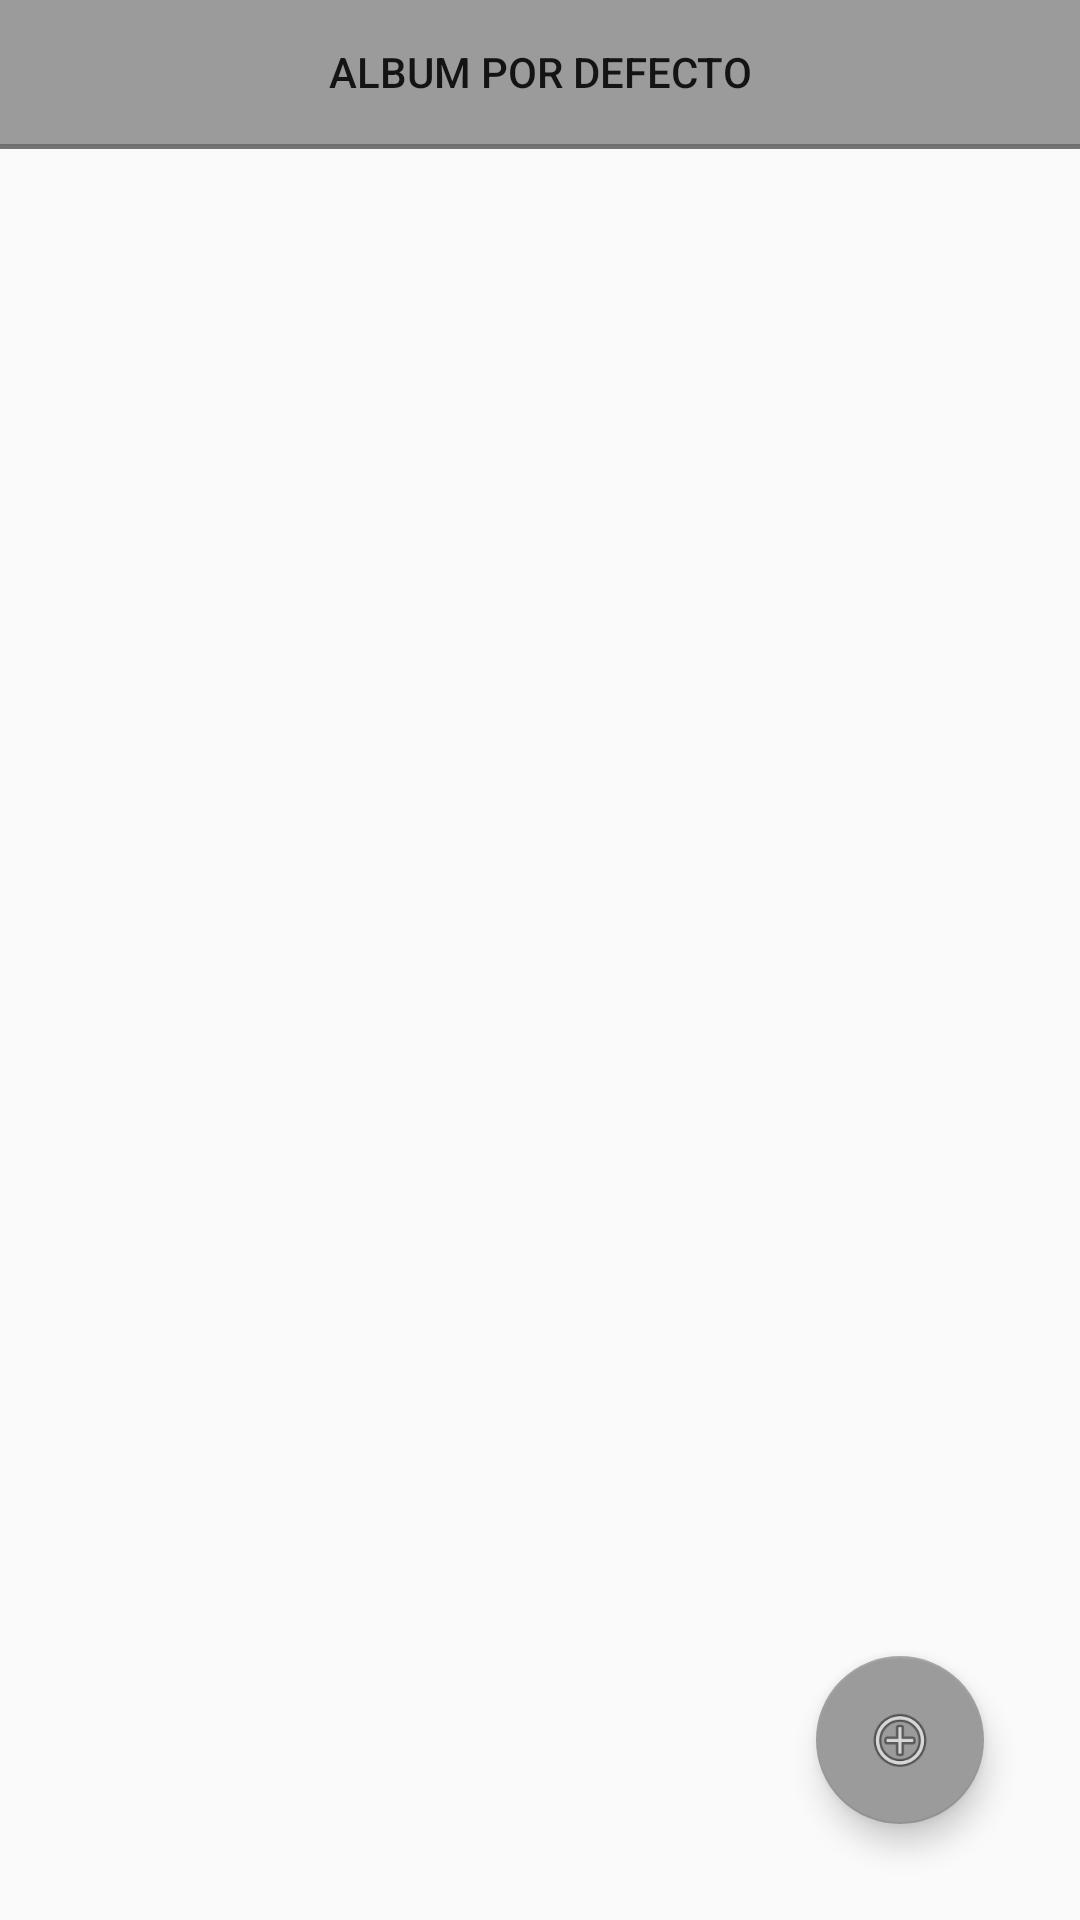

Named icons in this screenshot (1080w x 1920h) and their bounding boxes, (x1, y1, x2, y2):
add: (816, 1656, 984, 1824)
